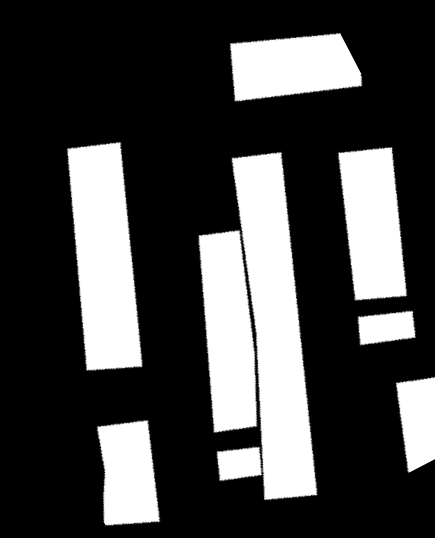parkingspot: (217, 152, 317, 500), (67, 142, 142, 370), (199, 231, 257, 433), (338, 147, 407, 300), (230, 33, 362, 101), (97, 420, 160, 526), (396, 377, 435, 472), (358, 311, 415, 345)
